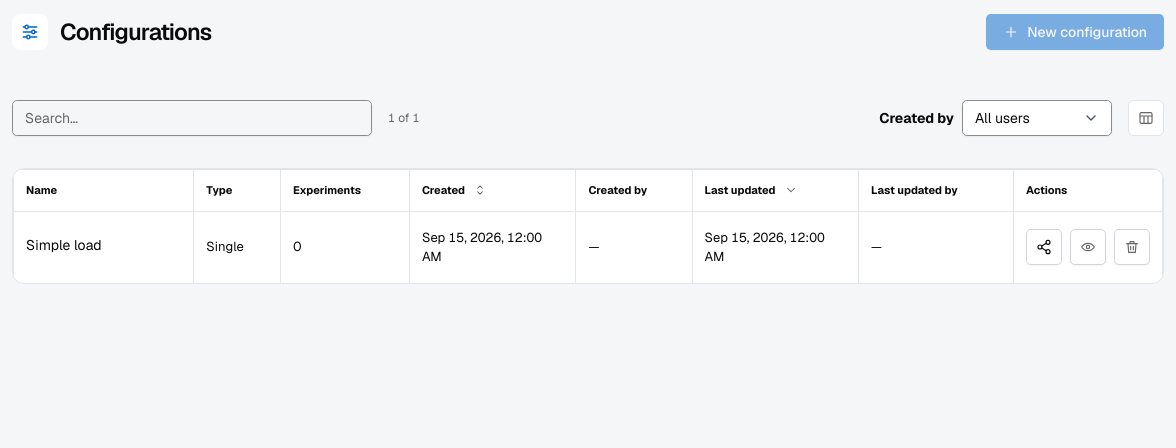
Test: experiment configuration actions › opens the complete saved configuration in read-only mode
Click the button named "View Simple load details" at point(1088, 247), box [1070,229,1106,265]
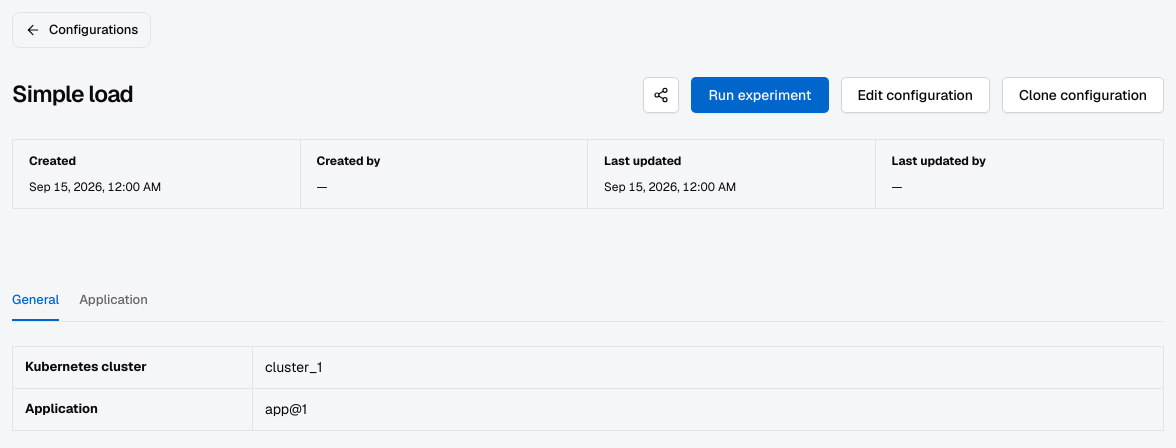
expect the element named "Configuration sections" is shown: met, box [12,281,1164,322]
expect the heading "Simple load" is shown: met, box [12,80,133,109]
expect the column heading "Name" is gone: met
